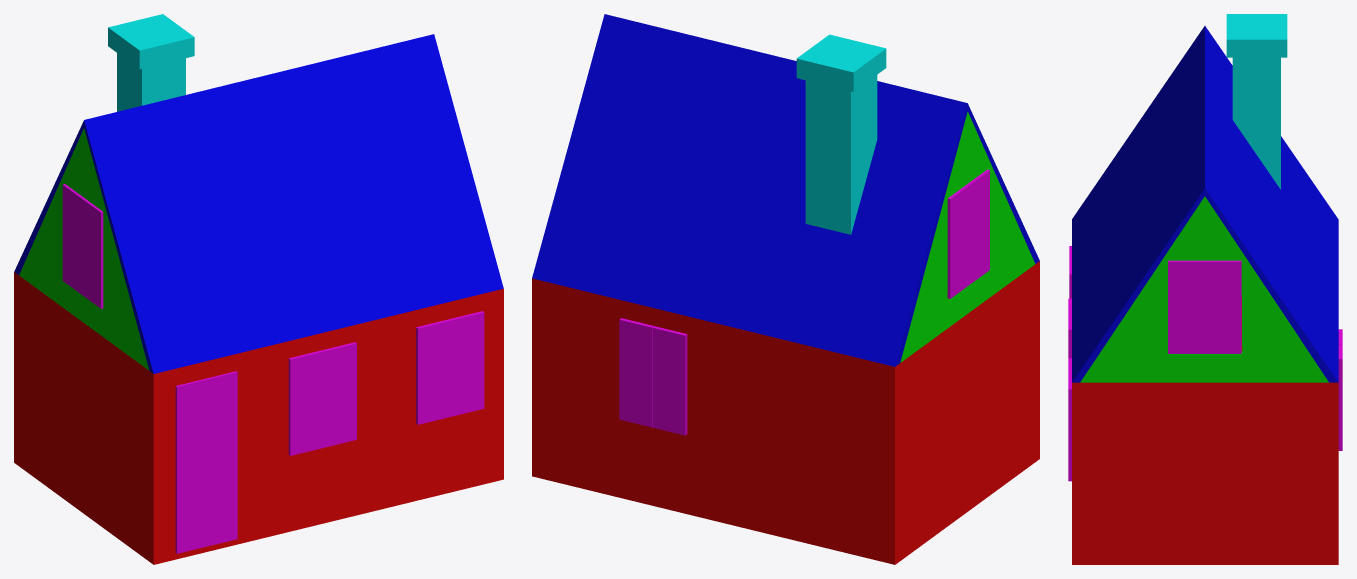
The model's file is Casa Media V2.fbx.
The picture shows the model from 3 angles, left to right: view 1: azimuth 30°, elevation 25°; view 2: azimuth 150°, elevation 25°; view 3: azimuth 270°, elevation 25°; orthographic projection. The views are drawn at different scales.
Parts seen in each view (by area): view 1: CMe_Casa, CM_Janela_3 (×2), CM_Janela_4 (×2), CM_Janela_1, CM_Janela_2; view 2: CMe_Casa, CM_Janela_6, CM_Janela_5, CM_Janela_4, CM_Janela_3; view 3: CMe_Casa, CM_Janela_4 (×2), CM_Janela_3, CM_Janela_5.
Part boxes in pixels (bbox=[...]): CMe_Casa: bbox=[14, 14, 503, 564]; CM_Janela_3 (×2): bbox=[82, 198, 450, 424]; CM_Janela_4 (×2): bbox=[62, 184, 484, 416]; CM_Janela_1: bbox=[288, 350, 323, 455]; CM_Janela_2: bbox=[322, 342, 356, 447]; CMe_Casa: bbox=[532, 14, 1039, 564]; CM_Janela_6: bbox=[652, 326, 687, 435]; CM_Janela_5: bbox=[619, 318, 654, 427]; CM_Janela_4: bbox=[947, 184, 970, 298]; CM_Janela_3: bbox=[968, 169, 989, 283]; CMe_Casa: bbox=[1069, 14, 1338, 564]; CM_Janela_4 (×2): bbox=[1068, 260, 1241, 481]; CM_Janela_3: bbox=[1168, 260, 1204, 353]; CM_Janela_5: bbox=[1338, 344, 1342, 450].
Bounding box in the file's own units: 468 × 552 × 327.
